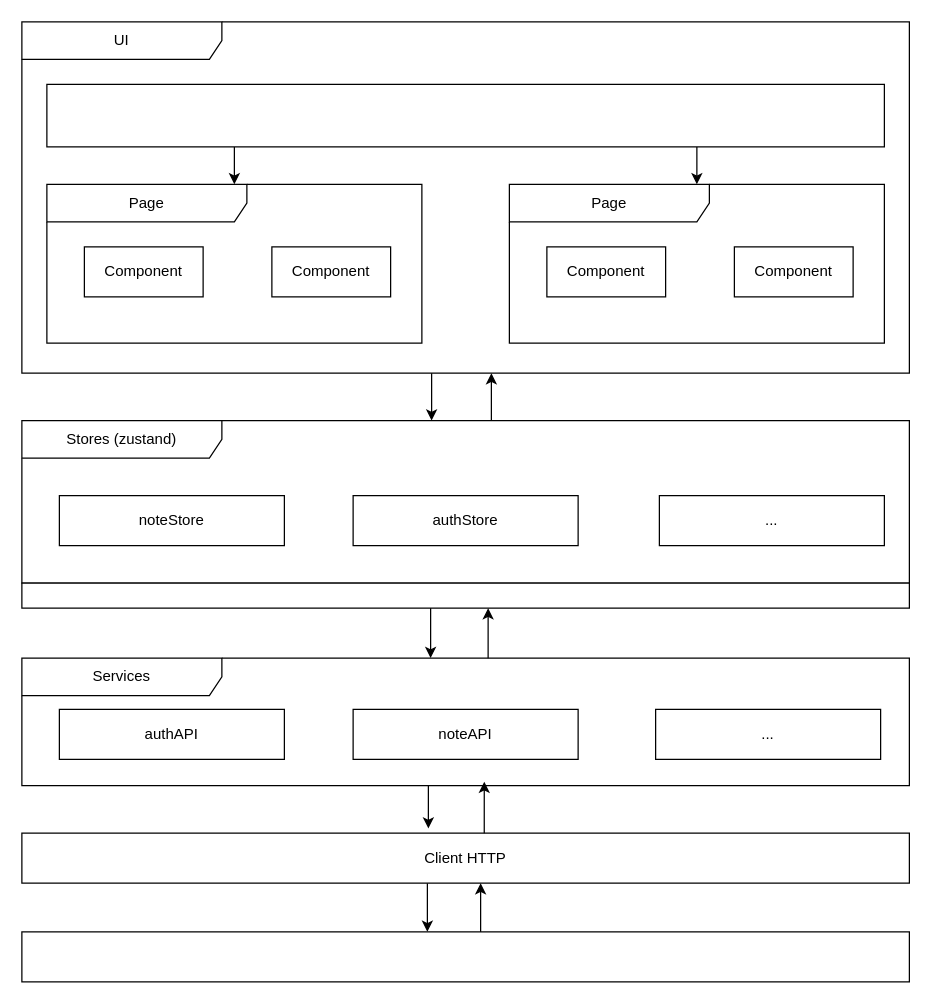
Some shapes in this 931 by 1004 pixel diagram are drawn without their labels. The centre of each missing label's shape, as x and y in pixels:
"API" goes at [465,956].
"etats + actions" goes at [465,595].
"Routing" goes at [465,115].
